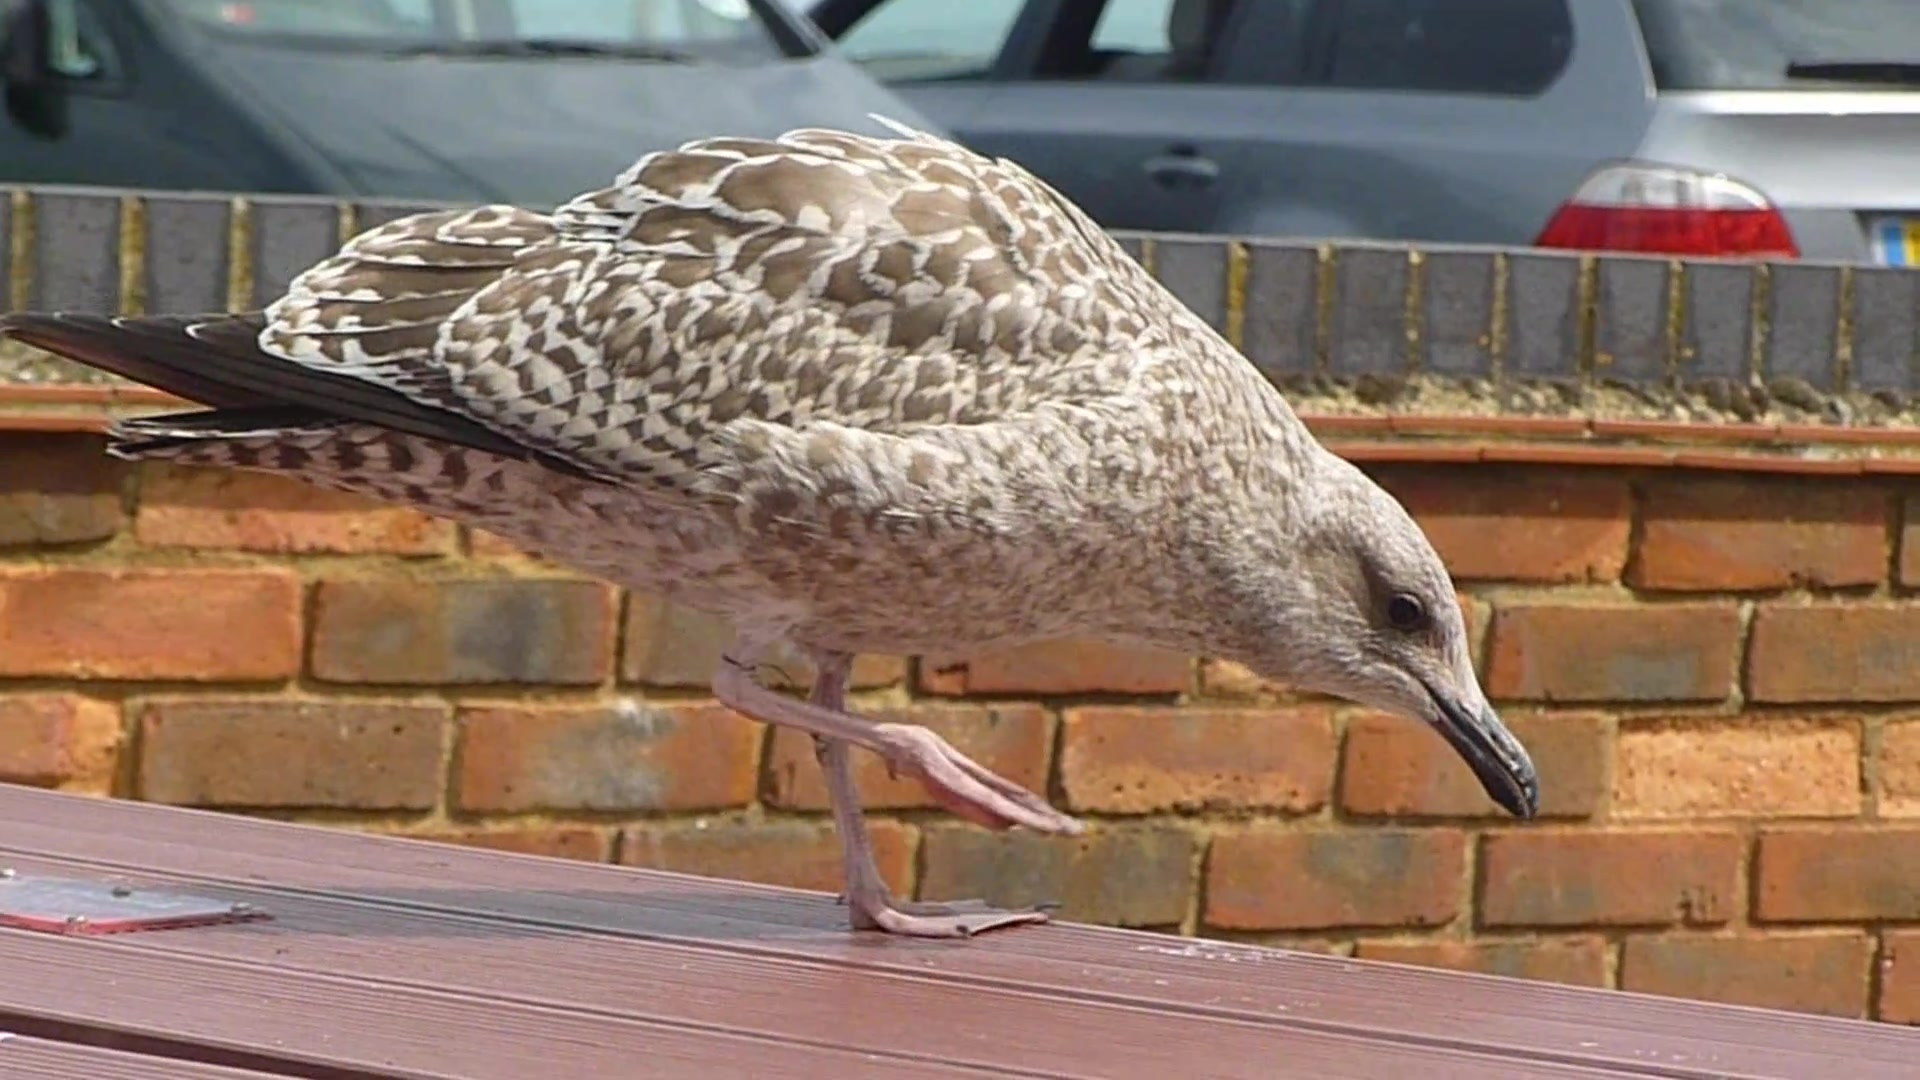bird: (5, 115, 1543, 944)
